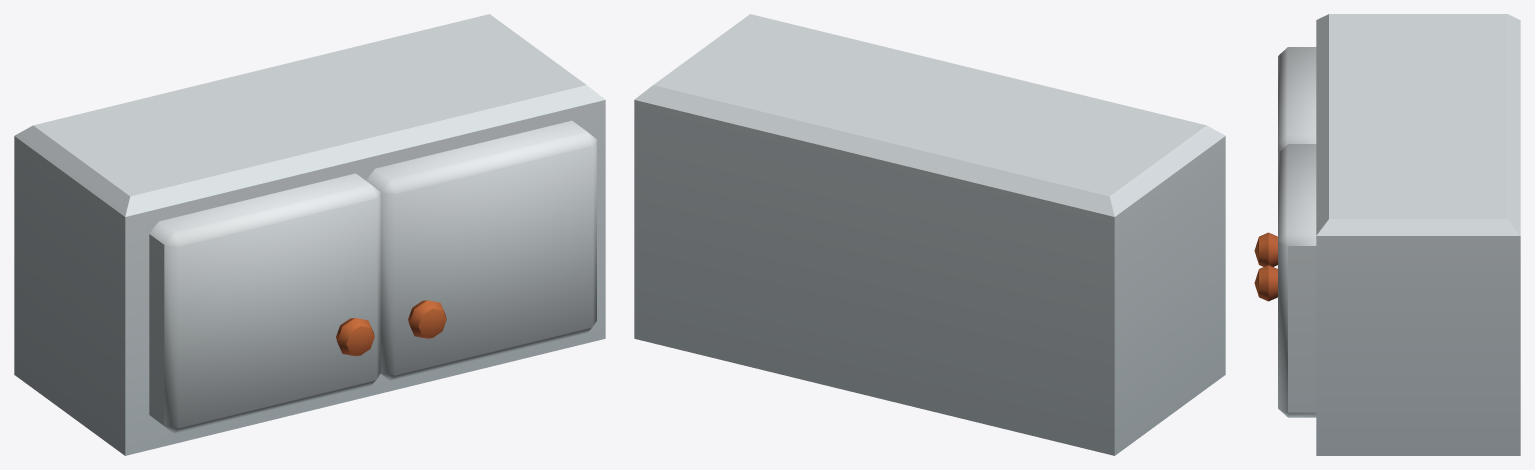
Rendered from kk_cabinet_half.glb.
3 renders of one model, left to right at view 1: azimuth 30°, elevation 25°; view 2: azimuth 150°, elevation 25°; view 3: azimuth 270°, elevation 25°, orthographic. The views are drawn at different scales.
Parts seen in each view (by area): view 1: kitchencabinet_half; view 2: kitchencabinet_half; view 3: kitchencabinet_half.
Part boxes in pixels (x1,y1,x2,y2): kitchencabinet_half: (14,14,605,455); kitchencabinet_half: (634,14,1225,455); kitchencabinet_half: (1254,14,1520,455).
Size of the model in its own units: 1.2 by 0.6001 by 0.6251.
Materials: 1 (1 with a texture image).
